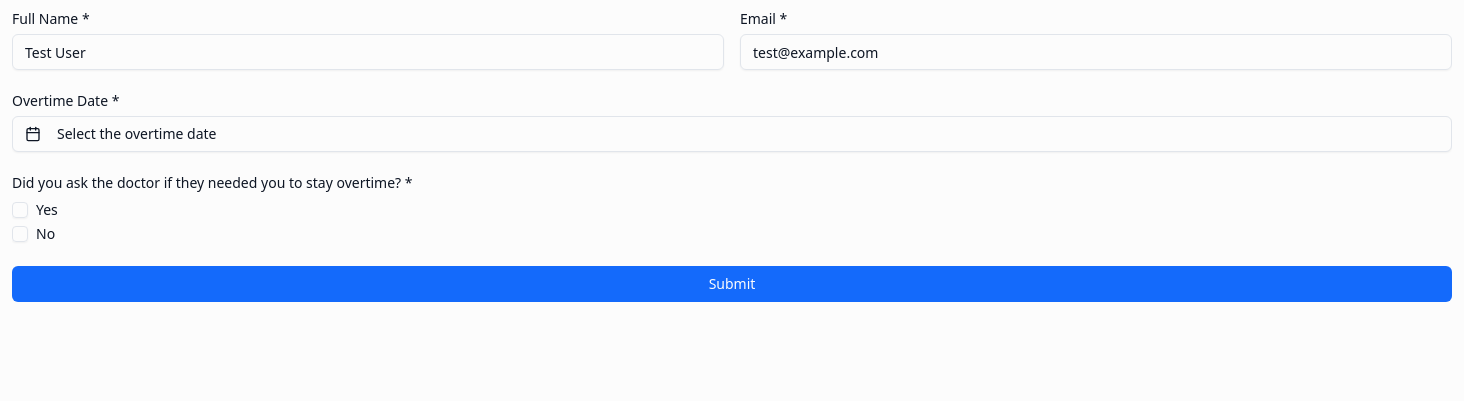
Test: OvertimeRequestForm › shows senior staff field when "No" is selected for asked doctor
The image size is (1464, 401).
Step 1. Click the checkbox with id "askedDoctorNo" → (20, 234), box left=12, top=226, right=28, bottom=242
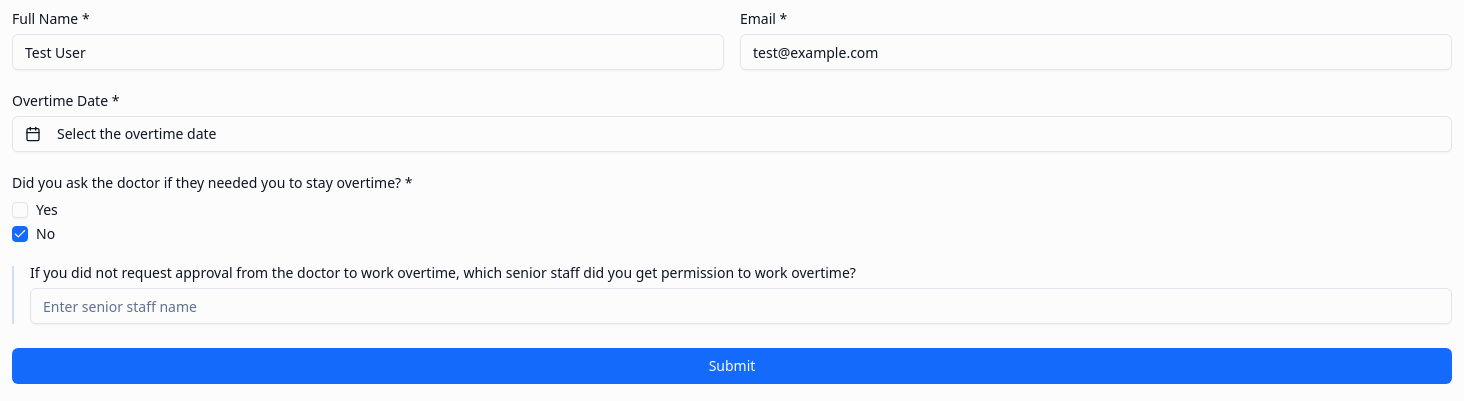
Expected: the field with id "seniorStaffName" is shown, left=30, top=288, right=1452, bottom=324
Expected: the text "which senior staff did you get permission to work overtime" is shown, left=30, top=263, right=856, bottom=282
